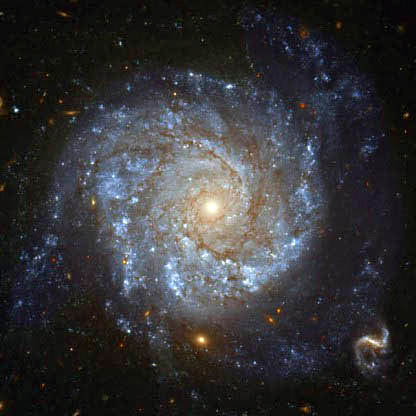NGC 1309: (22, 39, 397, 379)
